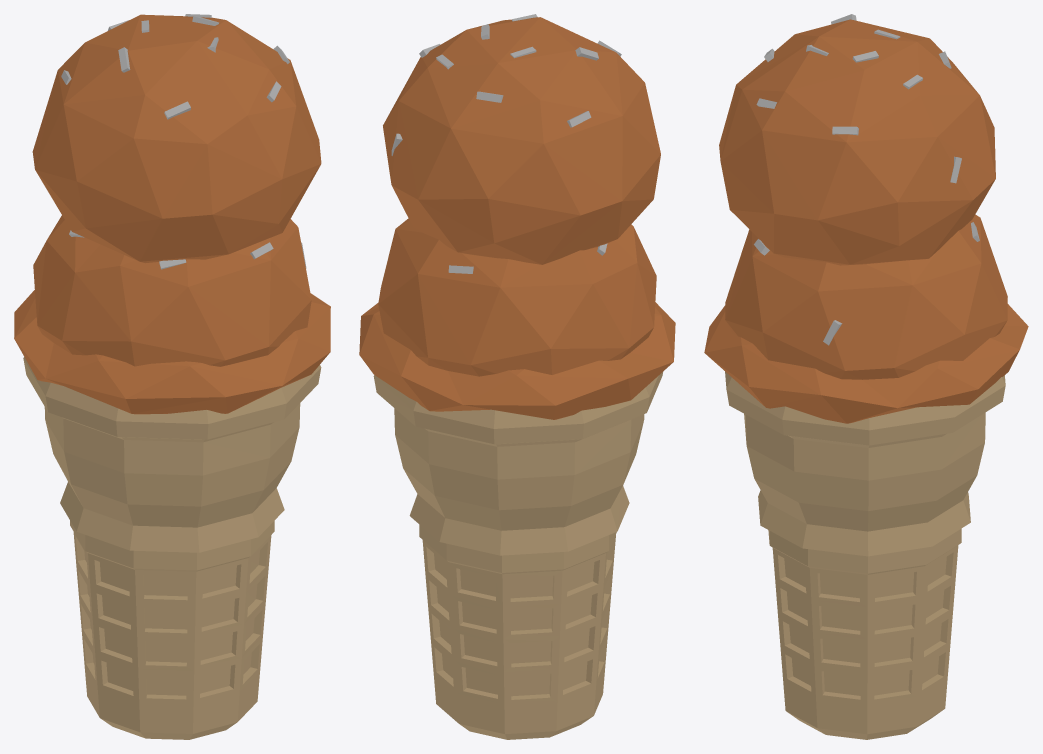
File: IceCream_4.glb
3 views of the same model, side by side, from view 1: azimuth 30°, elevation 25°; view 2: azimuth 150°, elevation 25°; view 3: azimuth 270°, elevation 25° (orthographic).
Visible parts, largest first — view 1: IceCream_4; view 2: IceCream_4; view 3: IceCream_4.
Part boxes in pixels (x1,y1,x2,y2): IceCream_4: (14,14,330,739); IceCream_4: (359,14,675,739); IceCream_4: (704,14,1028,739).
Size of the model in its own units: 0.5156 by 1.18 by 0.5156.
